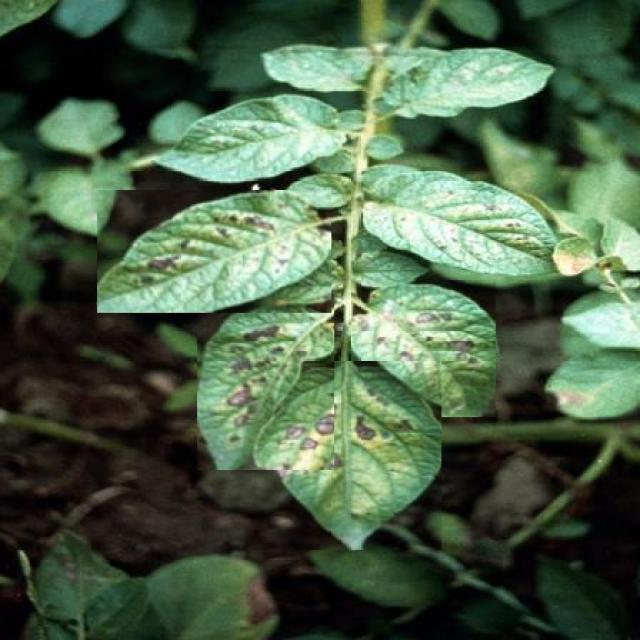Early Blight: (252, 360, 442, 550), (97, 190, 332, 314), (196, 294, 334, 470), (351, 280, 496, 417)
